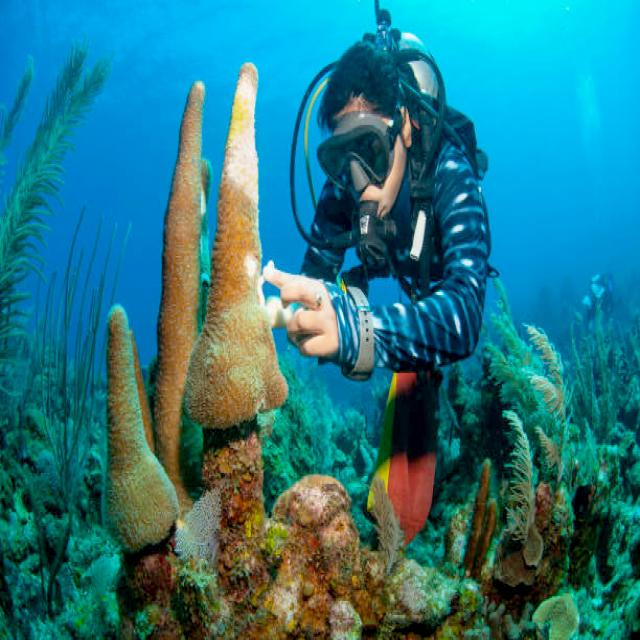Coral: (181, 61, 289, 428), (130, 81, 206, 522), (100, 301, 181, 553)
